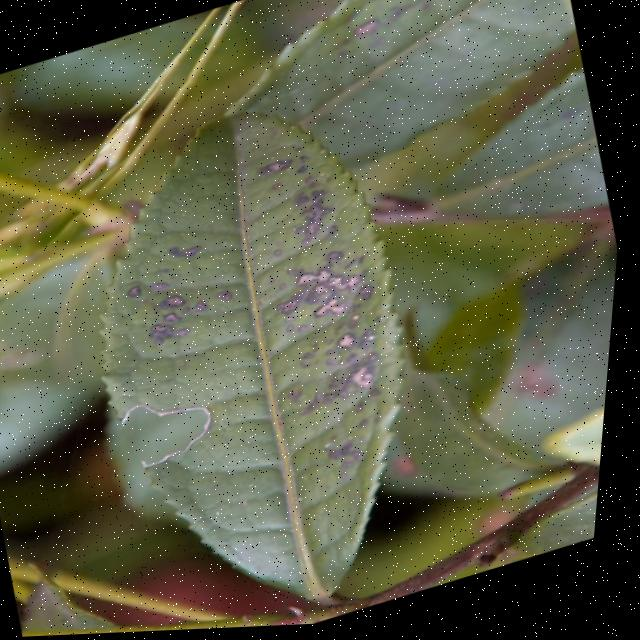Tea algae leaf spot: (54, 97, 459, 584)
